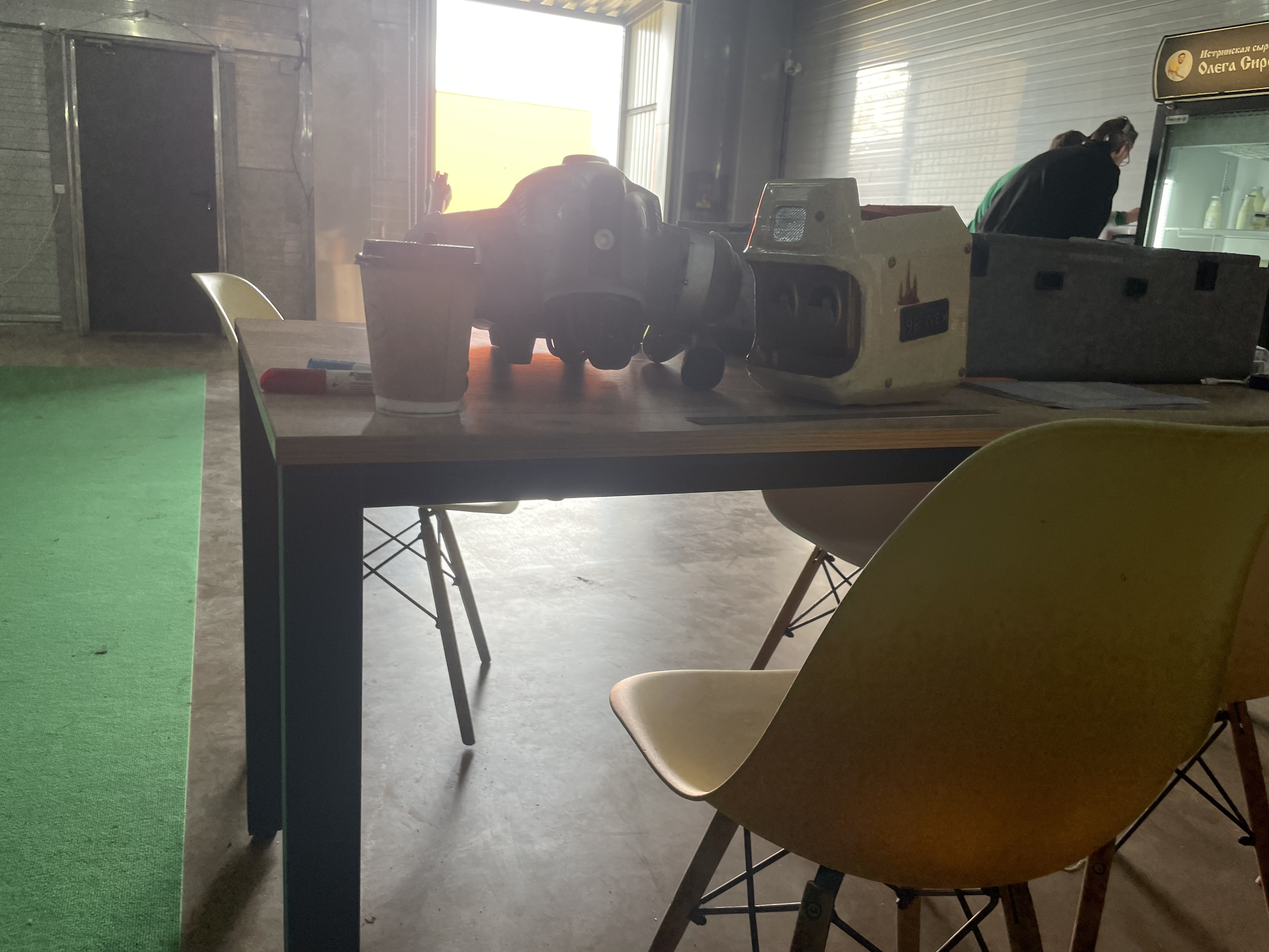cup: (354, 232, 482, 417)
